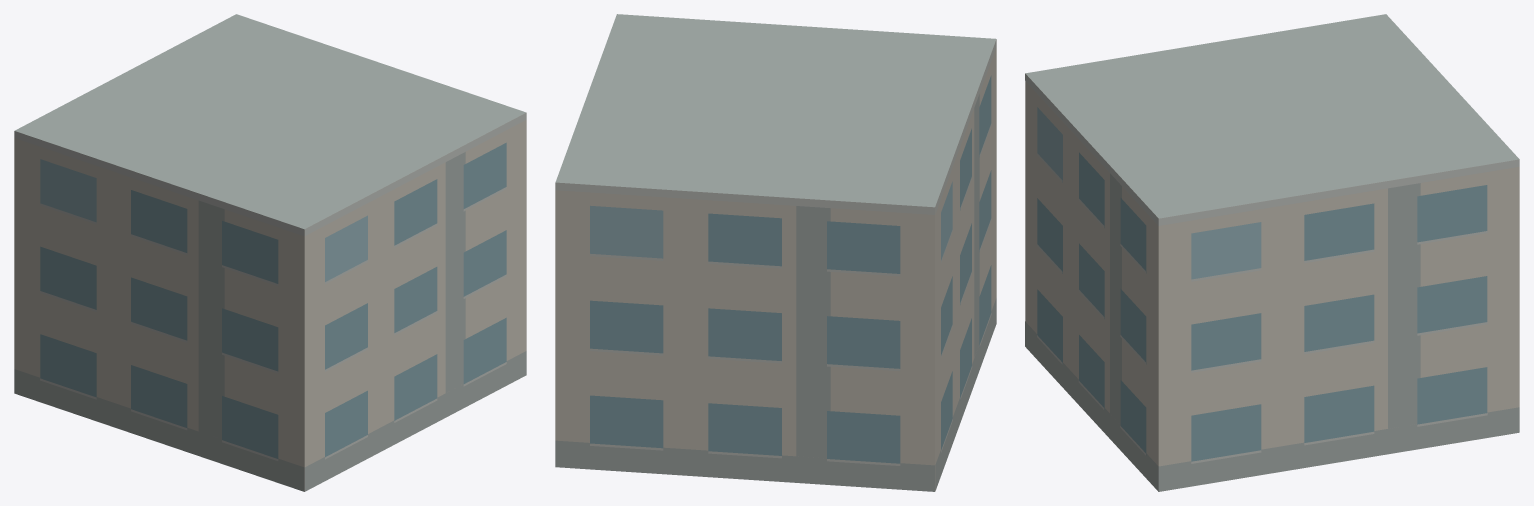
Rendered from residential-f067f799-229e-434e-9c37-0ecef5c980a5.glb.
3 renders of one model, left to right at view 1: azimuth 30°, elevation 25°; view 2: azimuth 150°, elevation 25°; view 3: azimuth 270°, elevation 25°, orthographic. The views are drawn at different scales.
Visible parts, largest first — view 1: residential-f067f799-229e-434e-9c37-0ecef5c980a5.tmp; view 2: residential-f067f799-229e-434e-9c37-0ecef5c980a5.tmp; view 3: residential-f067f799-229e-434e-9c37-0ecef5c980a5.tmp.
Boxes of the visible parts, x1,y1,x2,y2 form: residential-f067f799-229e-434e-9c37-0ecef5c980a5.tmp: (14,14,526,491); residential-f067f799-229e-434e-9c37-0ecef5c980a5.tmp: (555,14,996,491); residential-f067f799-229e-434e-9c37-0ecef5c980a5.tmp: (1025,14,1519,491).
Size of the model in its own units: 14.46 by 9 by 14.77.
